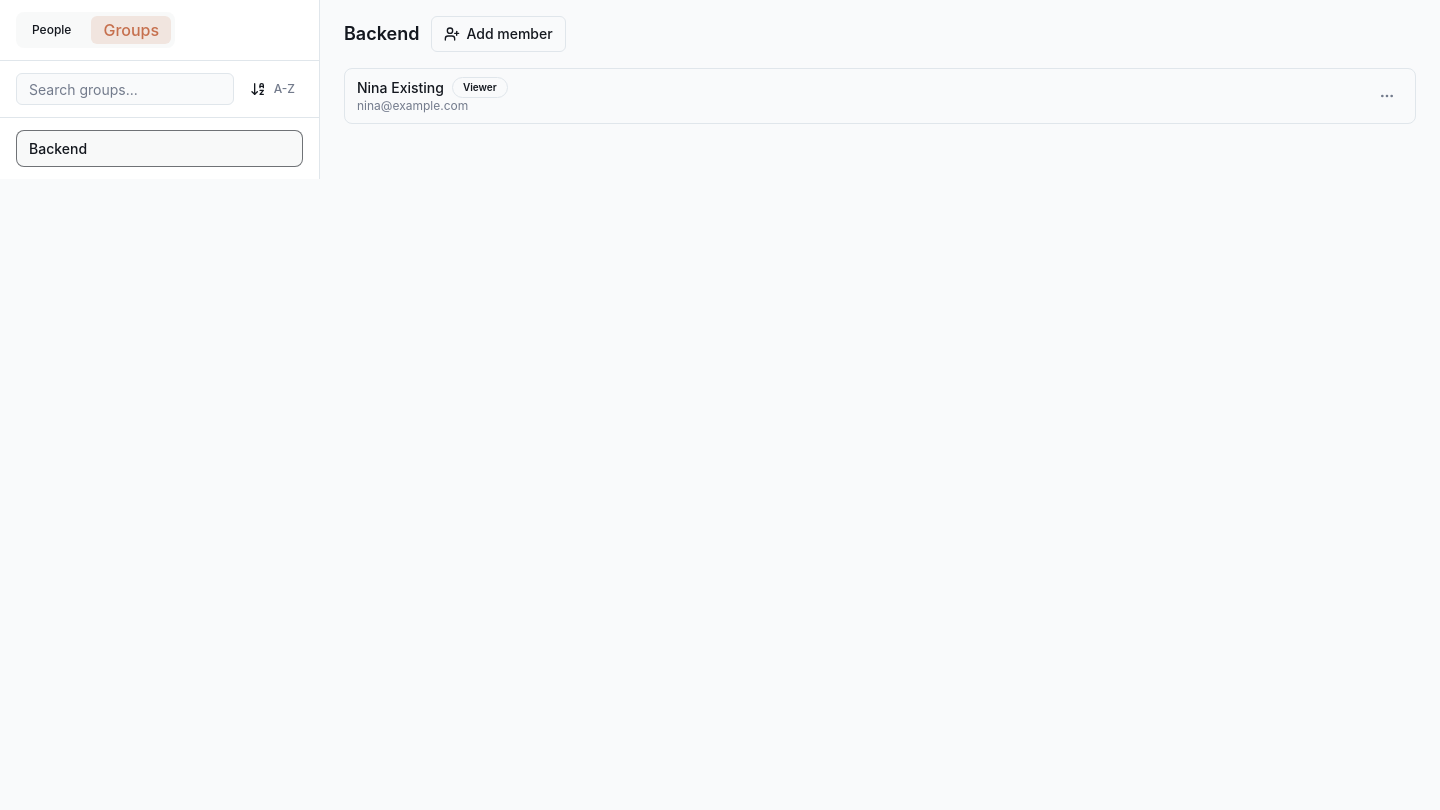
Test: MembersPage group add-member popover › hides disabled people by default and reveals them through the dedicated toggle
Click the button "Add member".
click(499, 34)  # box [431,16,566,52]
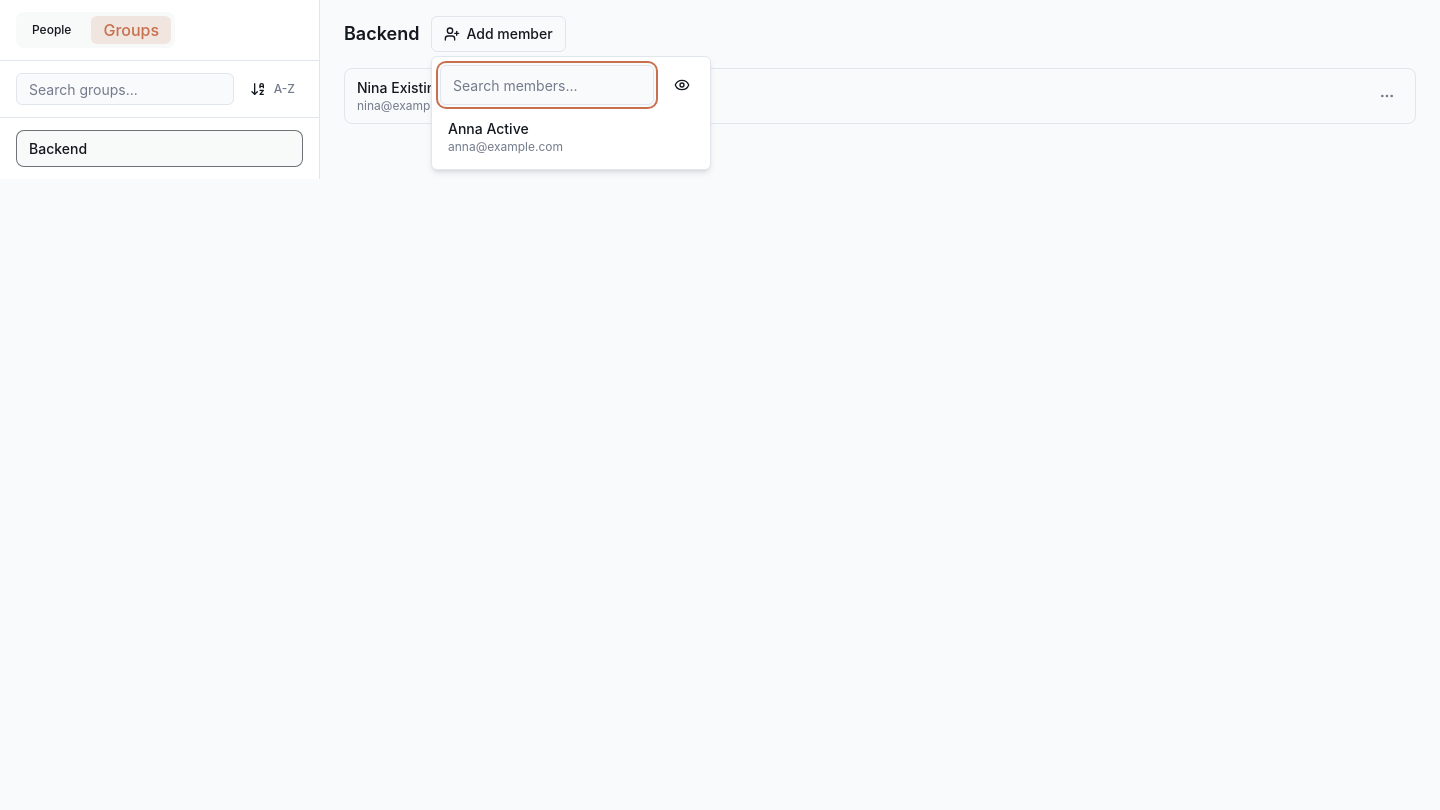
Expected: the text "Boris Disabled" is not shown
Expected: the text "Anna Active" is shown, [448,120,529,137]
Type "boris" into the field with placeholder "Search members...".
click(547, 85); type("boris")  # box [440,65,654,105]
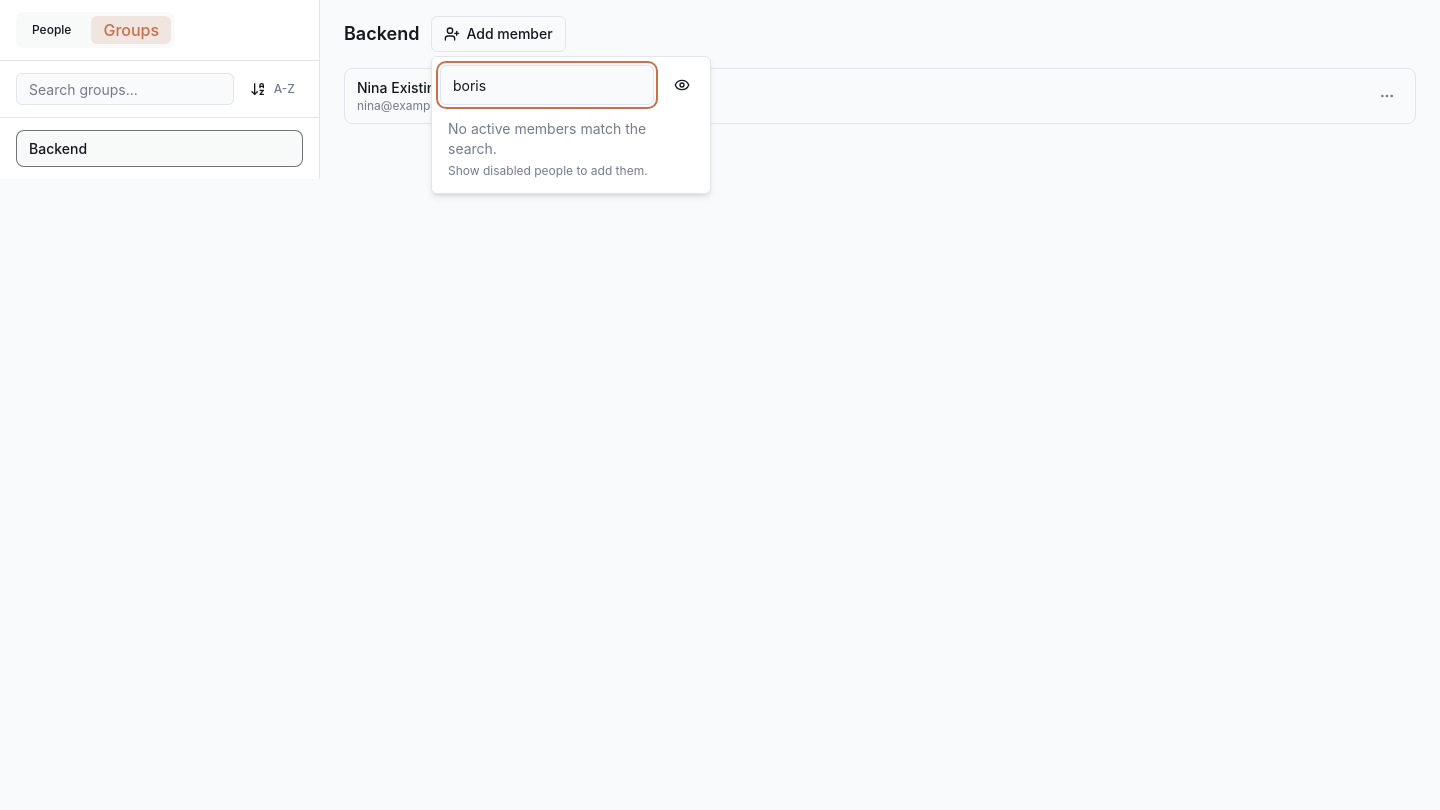
Expected: the text "No active members match the search." is shown, [448,120,646,157]
Expected: the text "Show disabled people to add them." is shown, [448,163,648,178]
Click the button named "Show disabled people".
click(682, 85)  # box [662,65,702,105]
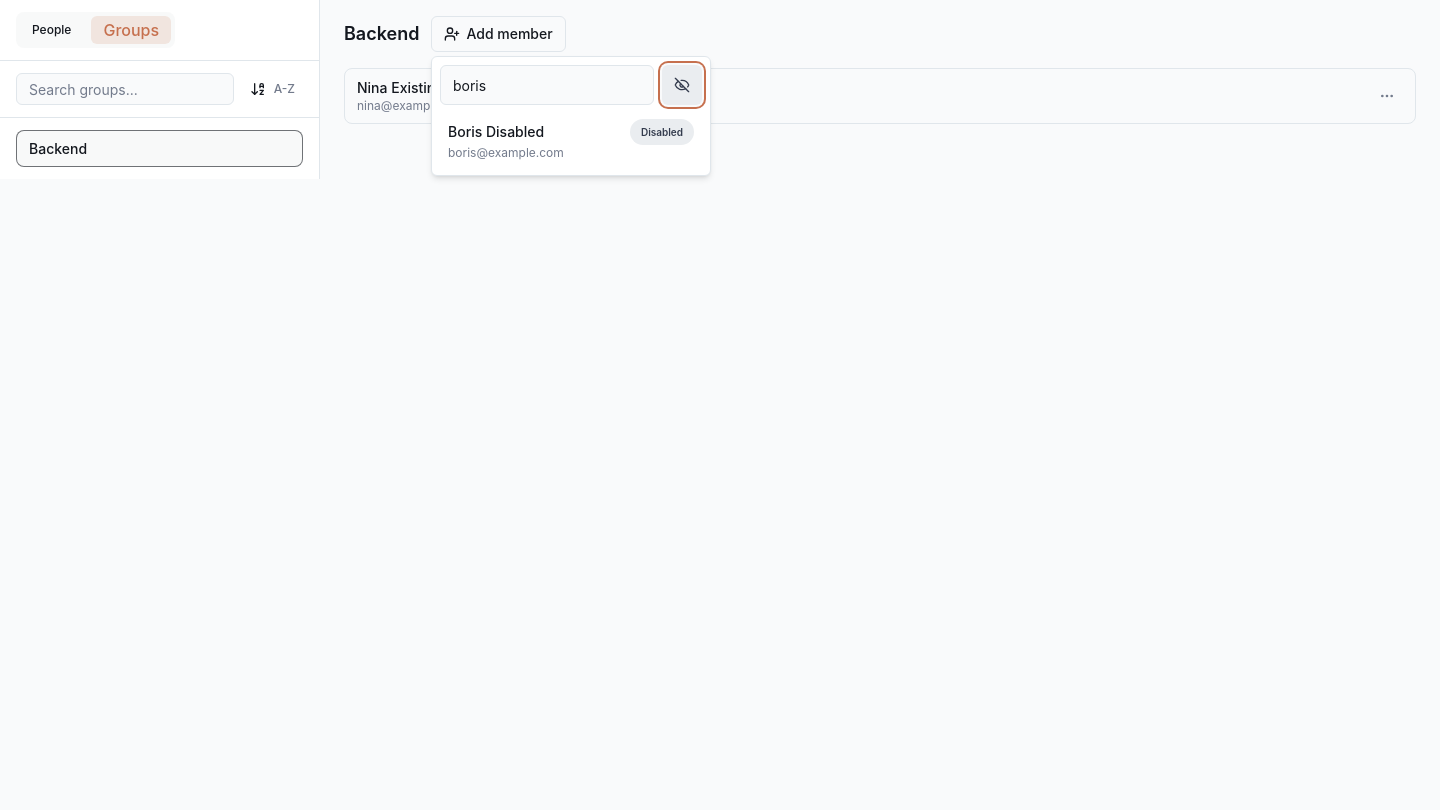
Expected: the text "Boris Disabled" is shown, [448,123,544,140]
Expected: the text "Disabled" is shown, [630,119,694,145]
